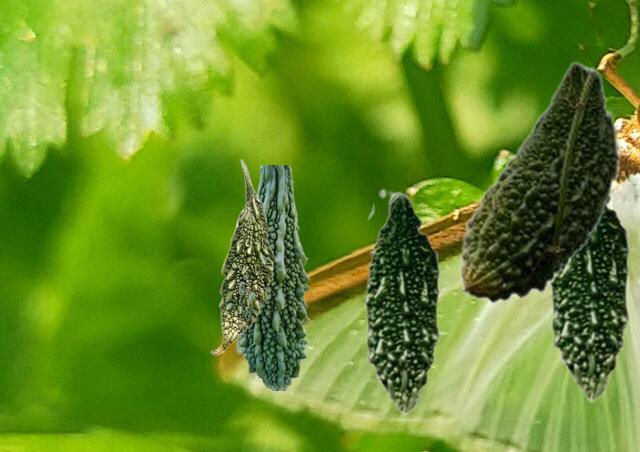ampalaya: (458, 61, 621, 303), (364, 188, 445, 416), (549, 193, 635, 403), (236, 165, 309, 389), (210, 158, 276, 354)
